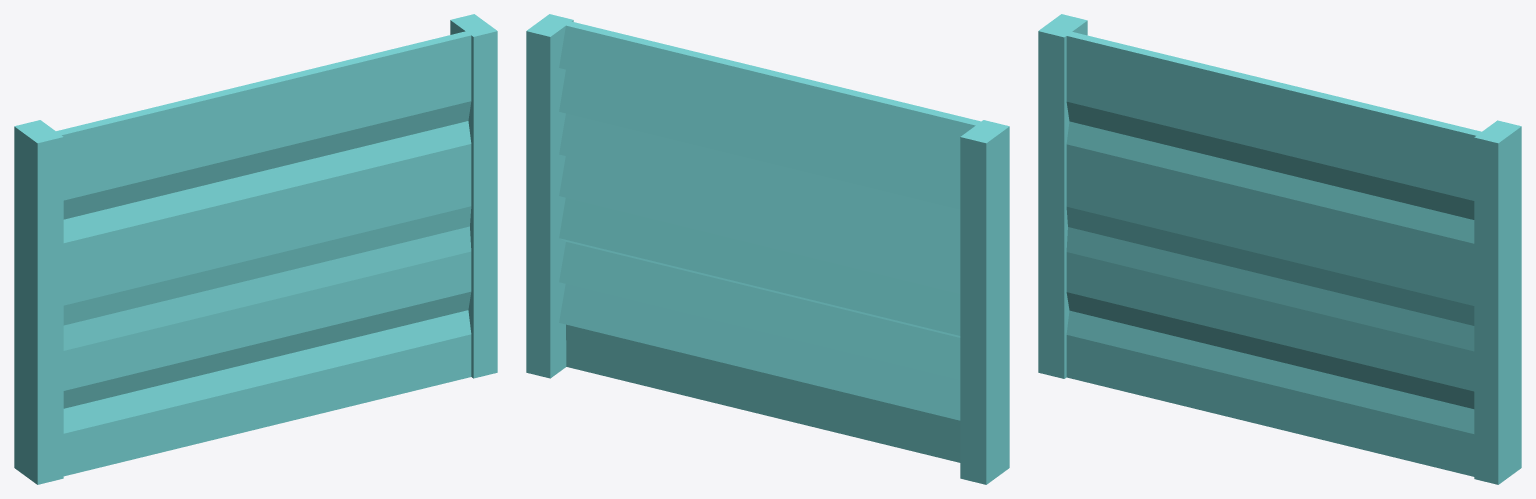
The model's file is lange muur.fbx.
3 views of the same model, side by side, from view 1: azimuth 30°, elevation 25°; view 2: azimuth 150°, elevation 25°; view 3: azimuth 330°, elevation 25° (orthographic).
Parts seen in each view (by area): view 1: lange muur; view 2: lange muur; view 3: lange muur.
Part boxes in pixels (left/top/right/bottom): lange muur: left=14, top=14, right=497, bottom=484; lange muur: left=526, top=14, right=1009, bottom=484; lange muur: left=1038, top=14, right=1521, bottom=484.
Size of the model in its own units: 395 by 280 by 34.73.
